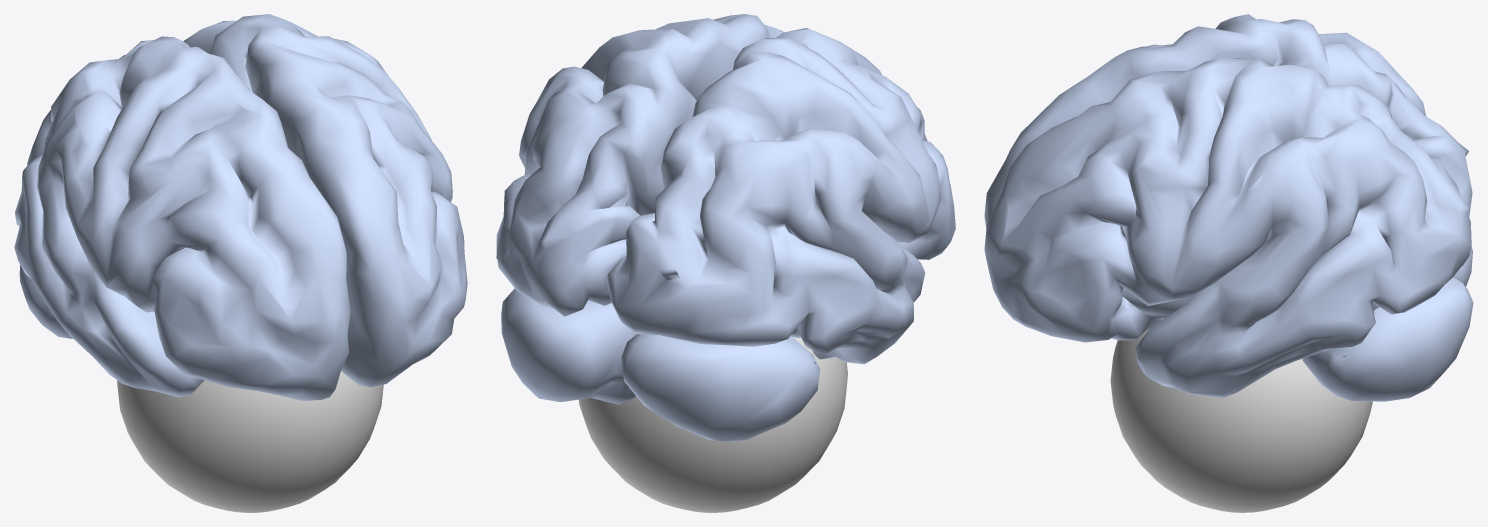
The model's file is brain.glb.
The picture shows the model from 3 angles, left to right: view 1: azimuth 30°, elevation 25°; view 2: azimuth 150°, elevation 25°; view 3: azimuth 270°, elevation 25°; orthographic projection. The views are drawn at different scales.
Visible parts, largest first — view 1: brain; view 2: brain; view 3: brain.
Part boxes in pixels (x1,y1,x2,y2): brain: (14, 14, 467, 512); brain: (496, 14, 955, 512); brain: (984, 14, 1473, 512).
Size of the model in its own units: 2.47 by 2.99 by 2.93.
